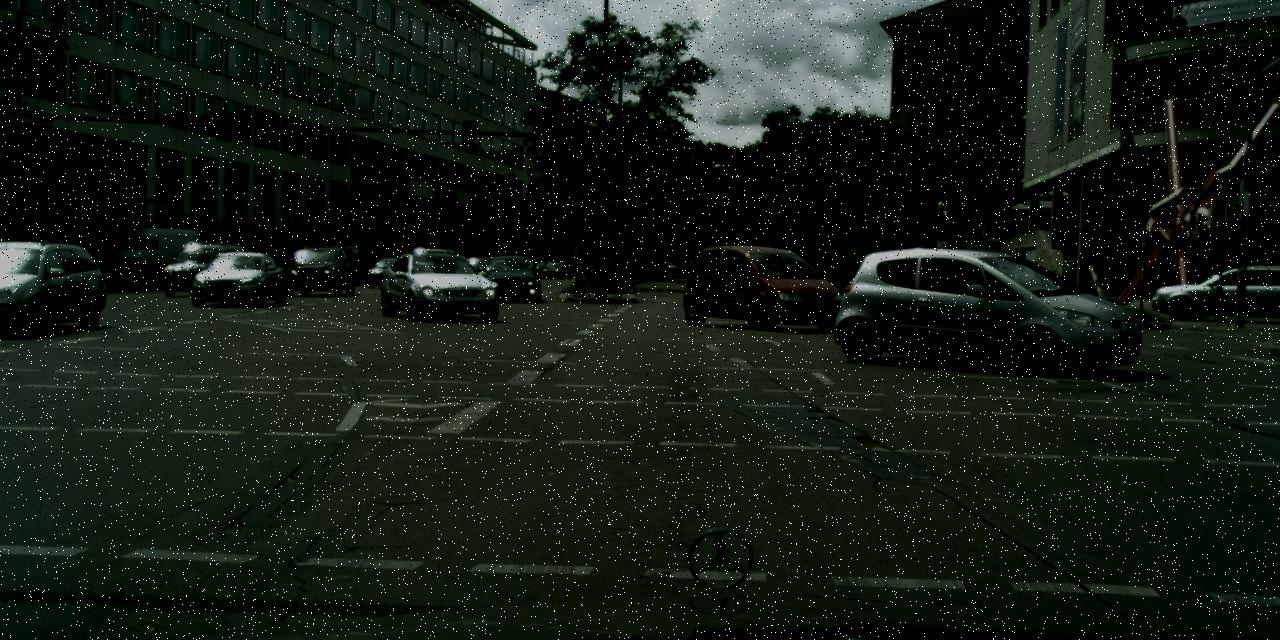ped: (569, 243, 590, 296), (592, 248, 612, 296), (570, 250, 586, 292)
